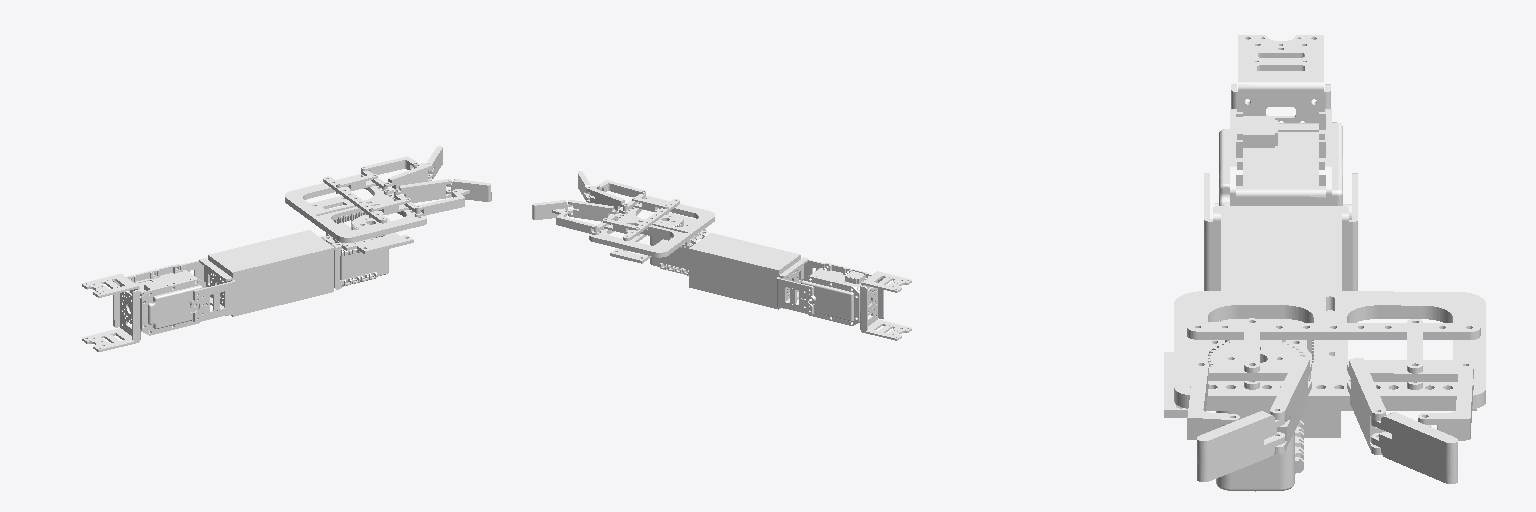
The robot description file, URDF, robot "manipulator":
<?xml version="1.0" encoding="utf-8"?>
<!-- =================================================================================== -->
<!-- |    This document was autogenerated by xacro from manipulator4_gripper.xacro     | -->
<!-- |    EDITING THIS FILE BY HAND IS NOT RECOMMENDED                                 | -->
<!-- =================================================================================== -->
<robot name="manipulator">
  <!--0.5624 height to start-->
  <material name="white">
    <color rgba="1 1 1 1"/>
  </material>
  <!-- <xacro:property name="MXVolume" value="0.000070668734375"/> -->
  <!-- <xacro:property name="Link1Volume" value="0.000231393781250"/> -->
  <!-- <xacro:property name="Link2Volume" value="0.000173506343750"/> -->
  <!-- MACROS -->
  <!-- LINKS -->
  <link name="shoulder_pitch_motor">
    <inertial>
      <origin rpy="0 0 0 " xyz="0 0 0"/>
      <mass value="0.165"/>
      <inertia ixx="3.85605E-05" ixy="3.5409E-07" ixz="7.7913E-07" iyy="6.21555E-05" iyz="2.7126E-07" izz="5.51265E-05"/>
    </inertial>
    <visual>
      <origin rpy="0 0 0 " xyz="0 0 0"/>
      <geometry>
        <mesh filename="package://arm_imitation/meshes/mx-64.stl" scale="0.001 0.001 0.001"/>
      </geometry>
      <material name="white"/>
    </visual>
    <collision>
      <origin rpy="0 0 0" xyz="0 0 0"/>
      <geometry>
        <mesh filename="package://arm_imitation/meshes/mx-64.stl" scale="0.001 0.001 0.001"/>
      </geometry>
    </collision>
  </link>
  <link name="shoulder_roll_motor">
    <inertial>
      <origin rpy="0 0 0 " xyz="0 0 0.0481"/>
      <mass value="0.165"/>
      <inertia ixx="3.85605E-05" ixy="3.5409E-07" ixz="7.7913E-07" iyy="6.21555E-05" iyz="2.7126E-07" izz="5.51265E-05"/>
    </inertial>
    <visual>
      <origin rpy="0 0 0 " xyz="0 0 0.0481"/>
      <geometry>
        <mesh filename="package://arm_imitation/meshes/mx-64.stl" scale="0.001 0.001 0.001"/>
      </geometry>
      <material name="white"/>
    </visual>
    <collision>
      <origin rpy="0 0 0" xyz="0 0 0.0481"/>
      <geometry>
        <mesh filename="package://arm_imitation/meshes/mx-64.stl" scale="0.001 0.001 0.001"/>
      </geometry>
    </collision>
  </link>
  <link name="shoulder_yaw_motor">
    <inertial>
      <origin rpy="0 0 0" xyz="0 0 0"/>
      <mass value="0.165"/>
      <inertia ixx="3.85605E-05" ixy="3.5409E-07" ixz="7.7913E-07" iyy="6.21555E-05" iyz="2.7126E-07" izz="5.51265E-05"/>
    </inertial>
    <visual>
      <origin rpy="0 0 0" xyz="0 0 0"/>
      <geometry>
        <mesh filename="package://arm_imitation/meshes/mx-64.stl" scale="0.001 0.001 0.001"/>
      </geometry>
      <material name="white"/>
    </visual>
    <collision>
      <origin rpy="0 0 0" xyz="0 0 0"/>
      <geometry>
        <mesh filename="package://arm_imitation/meshes/mx-64.stl" scale="0.001 0.001 0.001"/>
      </geometry>
    </collision>
  </link>
  <link name="link_1">
    <inertial>
      <origin rpy="0 0 0" xyz="0 0 0"/>
      <mass value="0.185"/>
      <inertia ixx="4.8914E-05" ixy="3.46135E-07" ixz="-2.24405E-06" iyy="9.83275E-05" iyz="5.71095E-07" izz="9.4054E-05"/>
    </inertial>
    <visual>
      <origin rpy="0 0 0" xyz="0 0 0"/>
      <geometry>
        <mesh filename="package://arm_imitation/meshes/link3.stl" scale="0.001 0.001 0.001"/>
      </geometry>
      <material name="white"/>
    </visual>
    <collision>
      <origin rpy="0 0 0" xyz="0 0 0"/>
      <geometry>
        <mesh filename="package://arm_imitation/meshes/link3.stl" scale="0.001 0.001 0.001"/>
      </geometry>
    </collision>
  </link>
  <link name="link_2">
    <inertial>
      <origin rpy="0 0 0" xyz="0 0 0"/>
      <mass value="0.2651"/>
      <inertia ixx="0.00021581791" ixy="-4.474888E-05" ixz="-0.00015723081" iyy="0.0009819304" iyz="-3.653078E-05" izz="0.0010320343"/>
    </inertial>
    <visual>
      <origin rpy="0 0 0" xyz="0 0 0"/>
      <geometry>
        <mesh filename="package://arm_imitation/meshes/link4.stl" scale="0.001 0.001 0.001"/>
      </geometry>
      <material name="white"/>
    </visual>
    <collision>
      <origin rpy="0 0 0" xyz="0 0 0"/>
      <geometry>
        <mesh filename="package://arm_imitation/meshes/link4.stl" scale="0.001 0.001 0.001"/>
      </geometry>
    </collision>
  </link>
  <!-- JOINTS -->
  <!-- the trans parameter present here is to toggle distance of current object with respect to next adjacent object i.e. its child-->
  <!-- <xacro:RevJoint id="shoulder_pitch" trans="0 ${MXDepth/2} 0" rpy="-1.57 -1.57 0" parent="shoulder_pitch_motor" child="shoulder_roll_motor" axis="0 0 1" l="-3.14" u="3.14" v="1.0"/>
  <xacro:RevJoint id="shoulder_roll" trans="0 ${MXLengthAxisLong + MXDepth/2} ${MXLengthAxisLong}" rpy="1.57 1.57 3.14" parent="shoulder_roll_motor" child="shoulder_yaw_motor" axis="0 0 -1" l="-3.14" u="3.14" v="1.0"/>
  <xacro:RevJoint id="shoulder_yaw" trans="0 0 0" rpy="1.57 0 -1.57" parent="shoulder_yaw_motor" child="link_1" axis="1 0 0" l="-1.57" u="1.57" v="1.0"/>
  <xacro:RevJoint id="elbow_pitch" trans="0 ${MXBracketLength + LinkLength + MXLengthAxisLong} 0" rpy="0 -1.57 0" parent="link_1" child="link_2" axis="1 0 0" l="-1.57" u="1.57" v="1.0"/> -->
  <joint name="shoulder_pitch" type="revolute">
    <origin rpy="-1.57 -1.57 0" xyz="0 0.0205 0"/>
    <parent link="shoulder_pitch_motor"/>
    <child link="shoulder_roll_motor"/>
    <axis xyz="0 0 -1"/>
    <limit effort="30" lower="-3.14" upper="3.14" velocity="6.28"/>
  </joint>
  <joint name="shoulder_roll" type="revolute">
    <origin rpy="1.57 -1.57 3.14" xyz="0 0.0686 0.0481"/>
    <parent link="shoulder_roll_motor"/>
    <child link="shoulder_yaw_motor"/>
    <axis xyz="0 0 1"/>
    <limit effort="30" lower="-3.14" upper="3.14" velocity="6.28"/>
  </joint>
  <joint name="shoulder_yaw" type="revolute">
    <origin rpy="1.57 0 1.57" xyz="0 0 0"/>
    <parent link="shoulder_yaw_motor"/>
    <child link="link_1"/>
    <axis xyz="1 0 0"/>
    <limit effort="30" lower="-1.57" upper="1.57" velocity="6.28"/>
  </joint>
  <joint name="elbow_pitch" type="revolute">
    <origin rpy="0 1.57 0" xyz="0 0.0841 0"/>
    <parent link="link_1"/>
    <child link="link_2"/>
    <axis xyz="1 0 0"/>
    <limit effort="30" lower="-1.57" upper="1.57" velocity="6.28"/>
  </joint>
</robot>

--- Render facts (derived) ---
3 views of the same robot in one strip: view 1: azimuth 30°, elevation 25°; view 2: azimuth 150°, elevation 25°; view 3: azimuth 270°, elevation 25° (orthographic).
Model manipulator with 5 links and 4 joints (4 revolute), rooted at shoulder_pitch_motor, posed every joint at zero.
Links seen in each view (by area): view 1: link_2, link_1; view 2: link_2, link_1; view 3: link_2, link_1.
Link boxes in pixels (x1,y1,x2,y2): link_2: (176,146,491,322); link_1: (82,264,205,351); link_2: (532,171,828,314); link_1: (801,263,911,340); link_2: (1164,173,1485,491); link_1: (1215,35,1351,219).
Bounding box of the posed robot: 0.4307 × 0.1367 × 0.0721 m (x, y, z).
Meshes: 3 distinct files referenced, 5 mesh visuals loaded (3 binary STL).